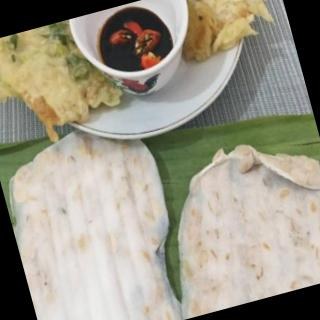Tempe: (1, 68, 320, 320)
